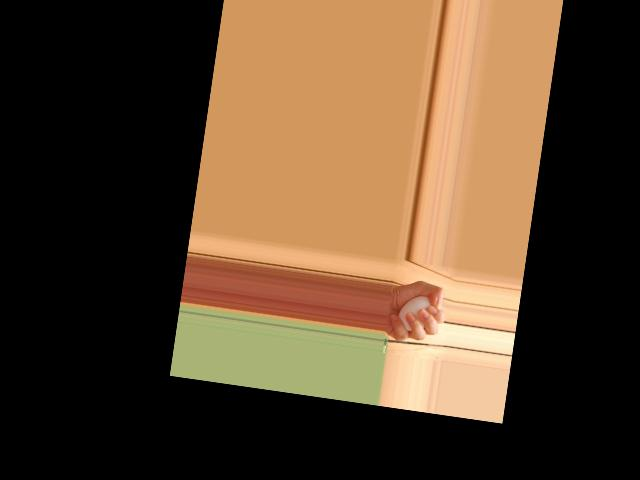egg: (396, 293, 434, 334)
